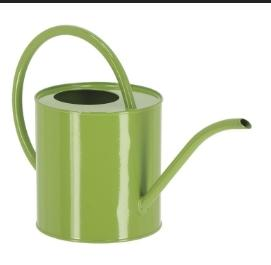ARROSOIR: (3, 25, 264, 265)
